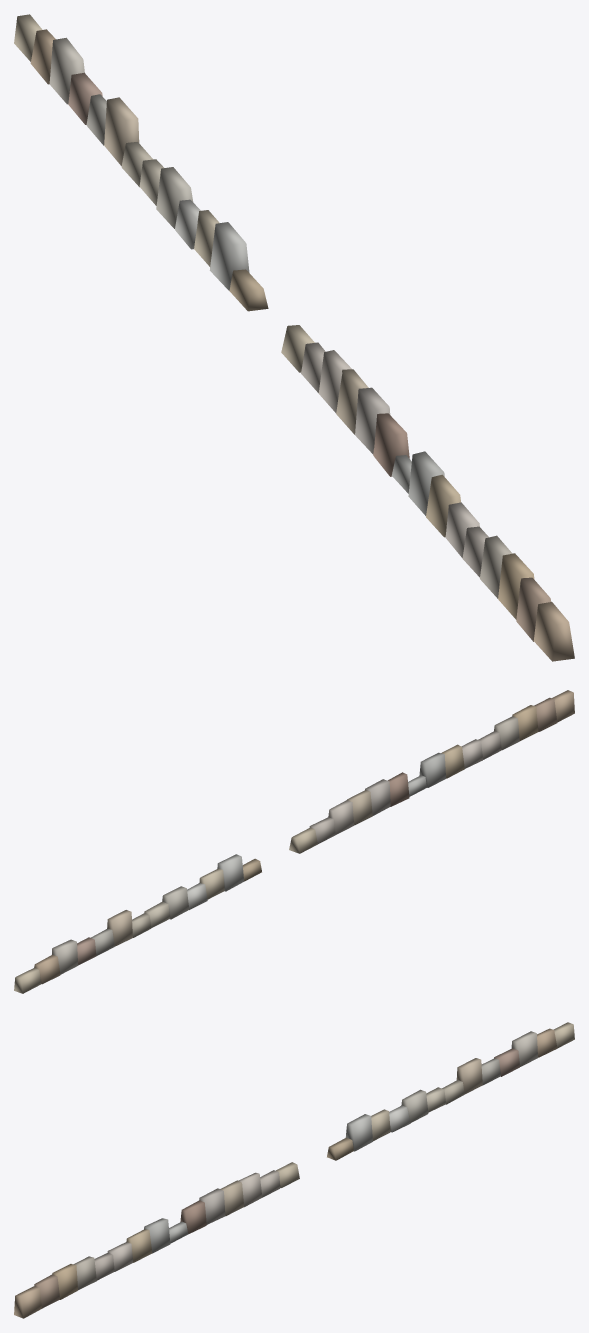
The model's file is farm_18_23_far.glb.
3 views of the same model, one above another, from view 1: azimuth 30°, elevation 25°; view 2: azimuth 150°, elevation 25°; view 3: azimuth 330°, elevation 25° (orthographic). The views are drawn at different scales.
Visible parts, largest first — view 1: geometry_0; view 2: geometry_0; view 3: geometry_0.
Part boxes in pixels (box(x1,y1,x2,y2)): geometry_0: box(14, 14, 574, 661); geometry_0: box(14, 690, 574, 993); geometry_0: box(14, 1022, 574, 1318).
Size of the model in its own units: 8.63 by 1.56 by 46.25.
